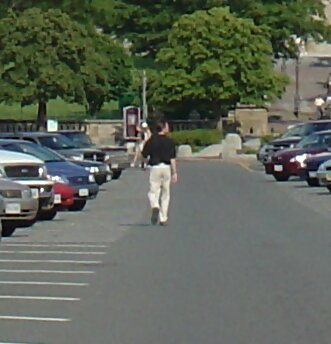person: (141, 116, 180, 227)
